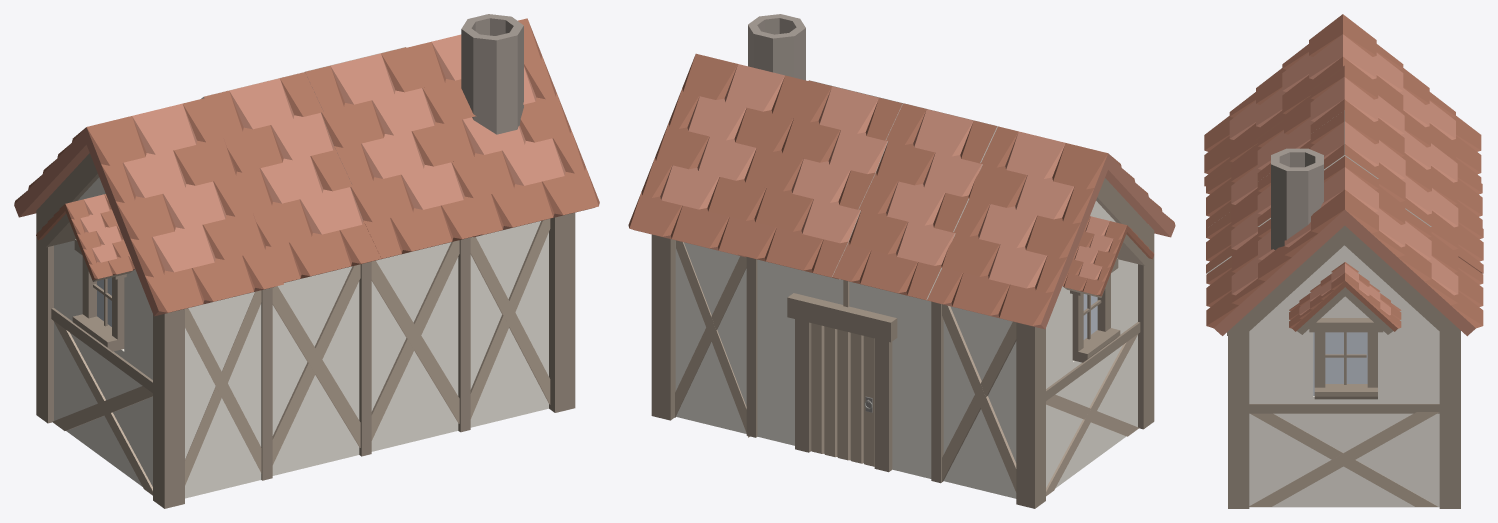
Rendered from HouseOutside.fbx.
The picture shows the model from 3 angles, left to right: view 1: azimuth 30°, elevation 25°; view 2: azimuth 150°, elevation 25°; view 3: azimuth 270°, elevation 25°; orthographic projection. The views are drawn at different scales.
Visible parts, largest first — view 1: object1.063; view 2: object1.063; view 3: object1.063.
Part boxes in pixels (left/top/right/bottom): object1.063: left=14, top=14, right=599, bottom=508; object1.063: left=628, top=14, right=1175, bottom=508; object1.063: left=1204, top=14, right=1483, bottom=508.
Bounding box in the file's own units: 480 × 346 × 264.
